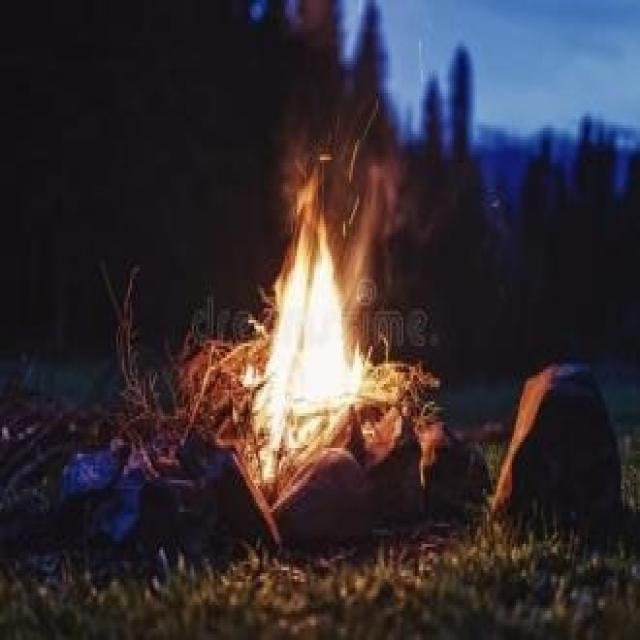Fire: (238, 166, 374, 483)
